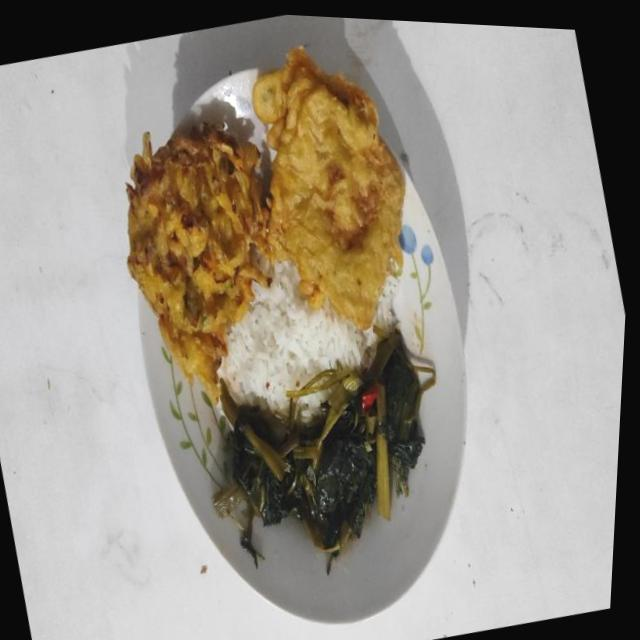nasi_putih: (217, 260, 380, 412), (372, 274, 400, 332)
tumis_kangkung: (212, 331, 436, 574)
